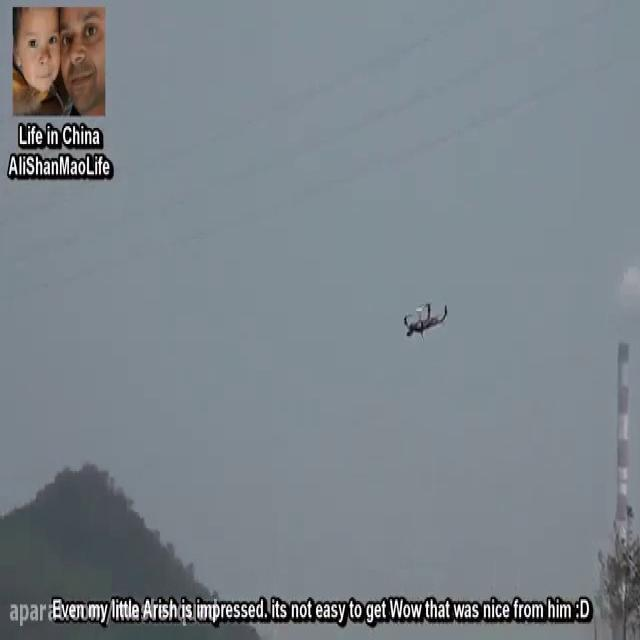drone: (402, 295, 451, 340)
